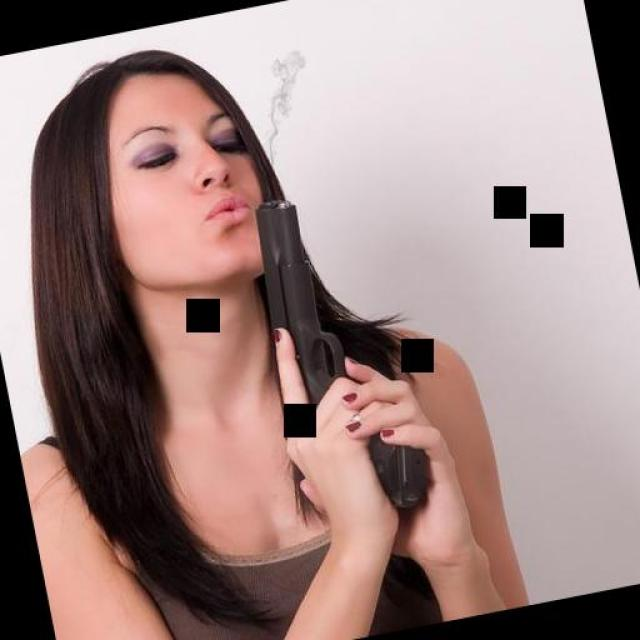gun: (244, 182, 435, 528)
